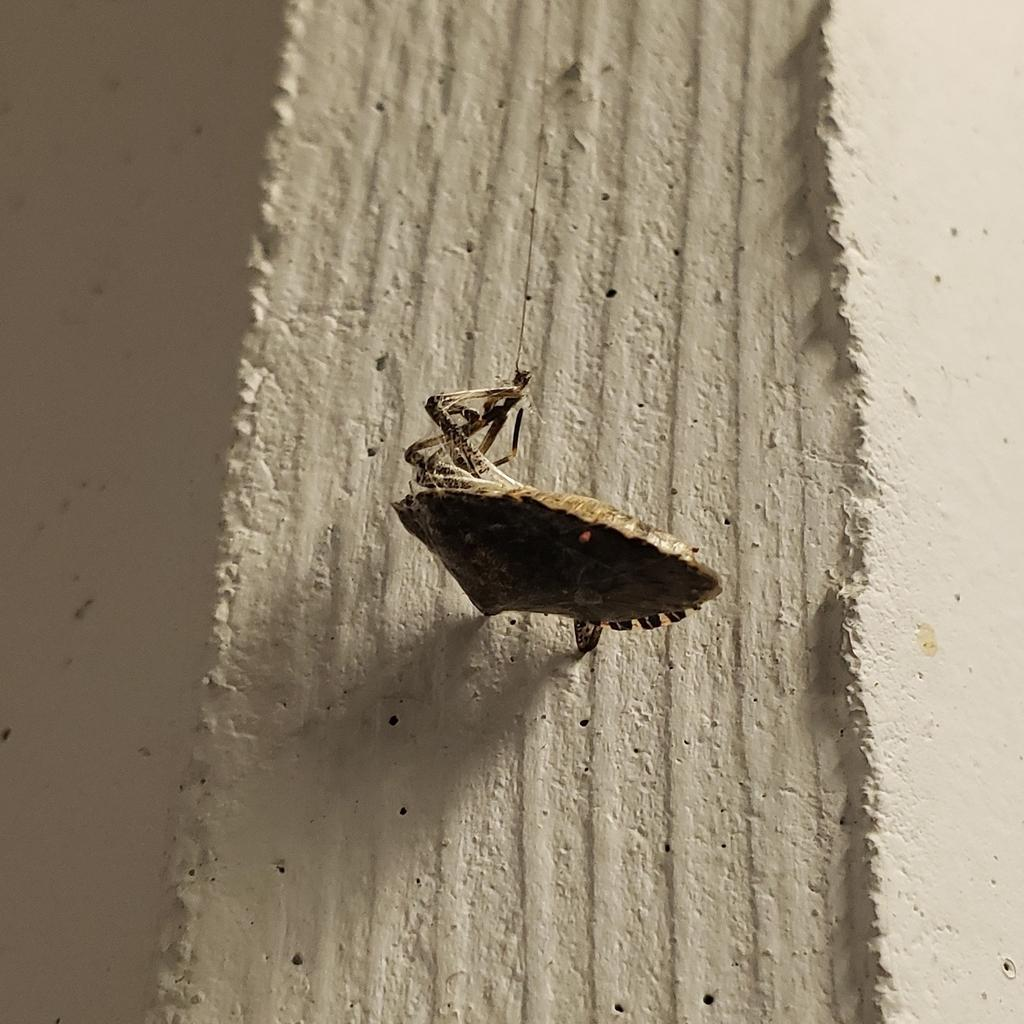stink_bugs: (305, 335, 774, 750)
